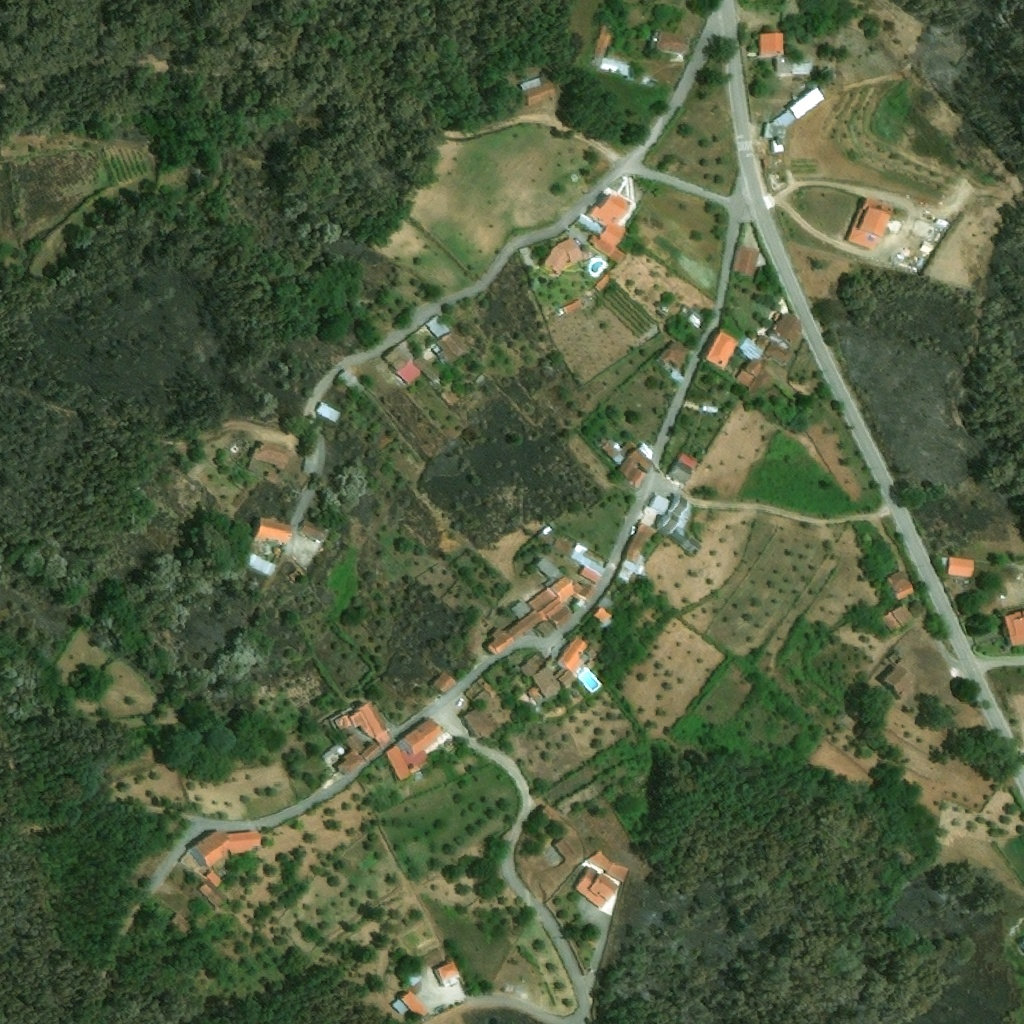0 no-damage: (586, 192, 632, 265), (657, 494, 703, 555), (488, 609, 546, 655), (844, 196, 889, 251), (587, 27, 630, 81), (348, 702, 393, 749), (574, 865, 619, 909), (401, 717, 444, 755), (784, 82, 824, 121), (539, 575, 577, 616), (193, 828, 231, 869), (764, 109, 795, 152), (546, 238, 583, 274), (617, 448, 652, 486), (570, 542, 606, 577), (556, 635, 588, 674), (626, 523, 656, 563), (565, 571, 595, 608), (437, 331, 468, 366), (666, 453, 698, 486), (383, 339, 416, 371), (531, 665, 562, 698), (998, 609, 1023, 649), (708, 333, 736, 367), (774, 313, 804, 344), (535, 555, 563, 587), (228, 829, 262, 855), (411, 355, 442, 383), (432, 957, 462, 985), (386, 745, 410, 780), (198, 880, 228, 908), (884, 665, 912, 694), (258, 443, 290, 468), (735, 247, 760, 279), (523, 82, 557, 105), (658, 340, 689, 365), (257, 518, 292, 540), (546, 602, 574, 629), (465, 709, 491, 738), (400, 991, 430, 1015), (528, 586, 558, 610), (336, 750, 362, 777), (739, 336, 766, 361), (656, 33, 689, 53), (887, 571, 913, 596), (249, 552, 276, 576), (765, 342, 792, 364), (433, 672, 457, 696), (426, 314, 450, 337), (401, 749, 430, 768), (947, 557, 973, 577), (315, 402, 341, 422), (588, 850, 611, 872), (880, 612, 901, 635), (578, 565, 602, 585), (300, 521, 325, 540), (892, 605, 913, 627), (553, 839, 575, 860), (321, 744, 344, 764), (760, 33, 783, 53), (171, 913, 194, 933), (359, 741, 381, 761), (606, 864, 629, 883), (510, 599, 531, 619), (601, 437, 621, 458), (769, 332, 792, 350), (535, 525, 553, 547), (535, 616, 555, 635), (344, 734, 364, 753), (686, 310, 706, 329), (520, 658, 540, 677), (650, 493, 669, 512), (617, 566, 637, 584), (560, 299, 582, 315), (735, 369, 754, 387), (471, 690, 490, 708), (552, 538, 571, 556), (205, 869, 223, 887), (405, 969, 423, 987), (595, 273, 613, 291), (908, 599, 926, 617), (593, 607, 612, 624), (637, 441, 654, 460), (527, 687, 544, 705), (746, 358, 763, 376), (482, 680, 499, 697), (884, 219, 902, 235), (521, 78, 543, 91), (558, 671, 575, 687), (917, 240, 934, 256), (393, 999, 409, 1014), (599, 594, 614, 610), (335, 715, 350, 730), (897, 587, 913, 601), (473, 374, 486, 387), (934, 218, 947, 229), (431, 343, 443, 354), (585, 647, 597, 658), (661, 299, 671, 312), (683, 401, 695, 411), (586, 659, 596, 670), (274, 547, 282, 554), (746, 52, 756, 57)
3 destroyed: (288, 567, 304, 583)
4 un-classified: (695, 437, 707, 446)
